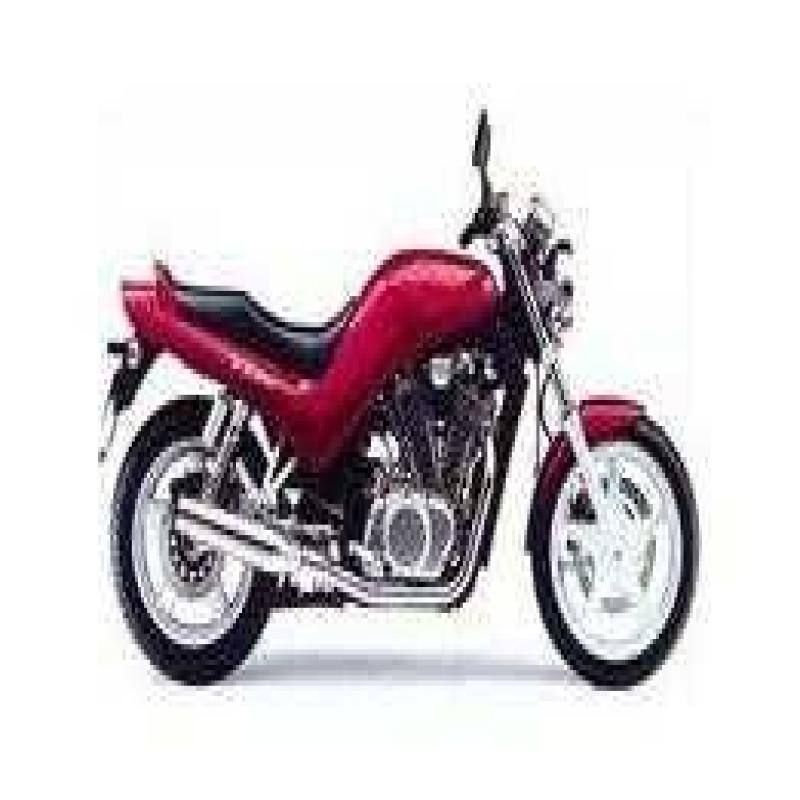bike: (100, 84, 720, 718)
